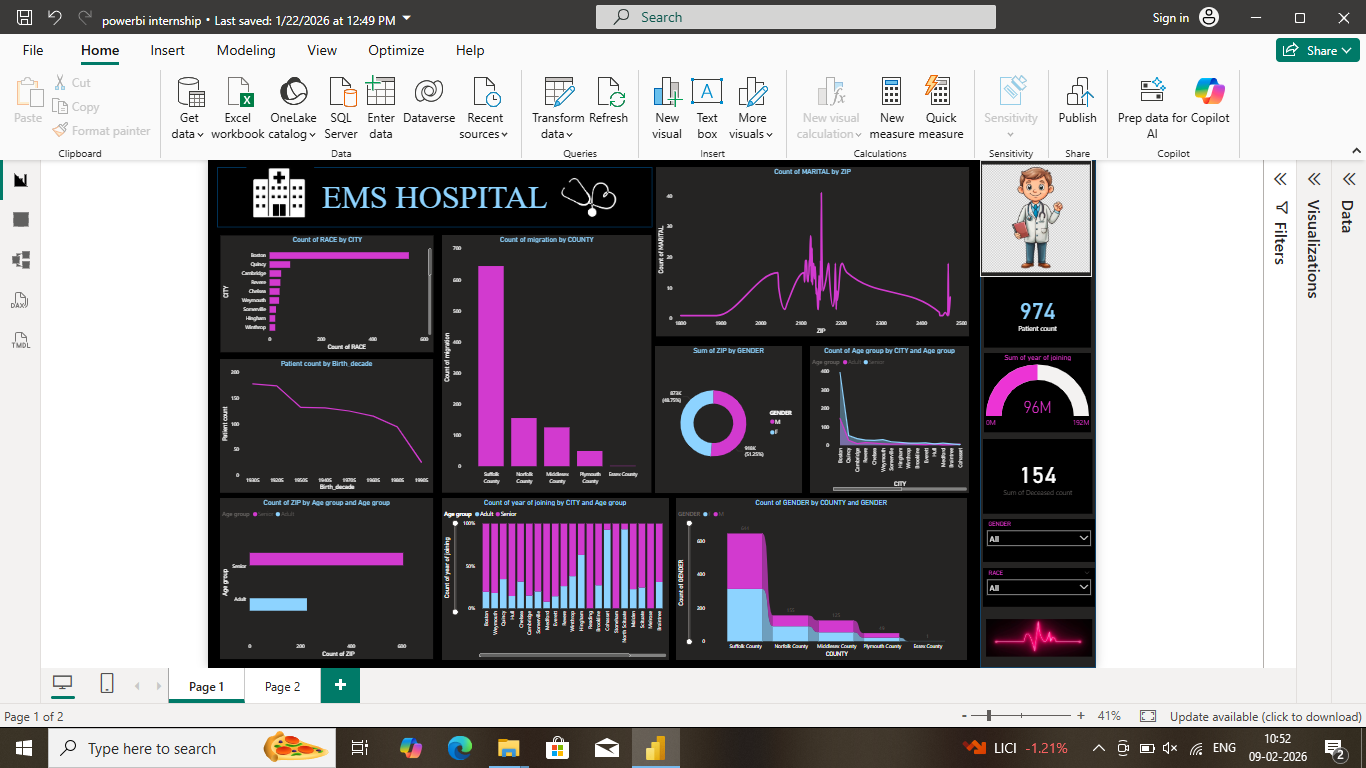

What the dashboard file says about the page in this screenshot:
{"tool":"powerbi","page":{"name":"Page 1","canvas":[2150,1230],"ordinal":0},"visuals":[{"type":"columnChart","fields":{"Category":["patients.COUNTY"],"Y":["patients.GENDER"],"Series":["patients.GENDER"]},"box":[1133.7,818.2,703.2,390.4],"z":0},{"type":"clusteredBarChart","fields":{"Y":["patients.ZIP"],"Category":["patients.Age group"],"Series":["patients.Age group"]},"box":[29.4,818.2,516.1,390.4],"z":1000},{"type":"lineChart","fields":{"Category":["patients.Birth_decade"],"Y":["patients.Patient count"]},"box":[30.2,481.4,515.9,323.8],"z":2000},{"type":"lineChart","fields":{"Category":["patients.ZIP"],"Y":["patients.MARITAL"]},"box":[1083.6,17.3,757.7,410.1],"z":4000},{"type":"clusteredBarChart","fields":{"Category":["patients.CITY"],"Y":["patients.RACE"]},"box":[28.1,181.3,518.1,284.9],"z":5000},{"type":"donutChart","fields":{"Category":["patients.GENDER"],"Y":["patients.ZIP"]},"box":[1082.9,449.2,355.6,355.6],"z":6000},{"type":"hundredPercentStackedColumnChart","fields":{"Category":["patients.CITY"],"Y":["procedures.year of joining"],"Series":["patients.Age group"]},"box":[566.9,818.2,548.2,390.4],"z":7000},{"type":"columnChart","fields":{"Category":["patients.COUNTY"],"Y":["patients.migration"]},"box":[567.7,181.3,507.3,623.8],"z":8000},{"type":"shape","box":[1870,0,280.6,1230],"z":9000},{"type":"areaChart","fields":{"Category":["patients.CITY"],"Y":["patients.Age group"],"Series":["patients.Age group"]},"box":[1457.3,449.2,385,355.6],"z":10000},{"type":"image","box":[1870,0,271,282.5],"z":11000},{"type":"card","fields":{"Values":["patients.Patient count"]},"box":[1879.6,282.5,259.5,171],"z":12000},{"type":"card","fields":{"Values":["patients.Deceased count"]},"box":[1877.7,674.6,265.2,180.7],"z":13000},{"type":"gauge","fields":{"Y":["procedures.year of joining"]},"box":[1879.6,467,259.5,192.2],"z":14000},{"type":"slicer","fields":{"Values":["patients.GENDER"]},"box":[1875.7,868.7,271,103.8],"z":15000},{"type":"slicer","fields":{"Values":["patients.RACE"]},"box":[1875.7,987.8,271,94.2],"z":16000},{"type":"shape","box":[22,18,1054,146],"z":17001},{"type":"image","box":[64,0,224,164],"z":17004},{"type":"image","box":[802,32,246,120],"z":17005},{"type":"image","box":[1879.6,1107,267.1,101.9],"z":17006}]}

Visuals, with their boxes on the page's 2150x1230 design canvas (x1, y1, x2, y2). These are canvas units, not pixel positions in the 1366x768 screenshot, which may show the page scaled, cropped or inside an application window:
columnChart - patients.COUNTY x patients.GENDER: bbox=(1134, 818, 1837, 1209)
clusteredBarChart - patients.ZIP x patients.Age group: bbox=(29, 818, 546, 1209)
lineChart - patients.Birth_decade x patients.Patient count: bbox=(30, 481, 546, 805)
lineChart - patients.ZIP x patients.MARITAL: bbox=(1084, 17, 1841, 427)
clusteredBarChart - patients.CITY x patients.RACE: bbox=(28, 181, 546, 466)
donutChart - patients.GENDER x patients.ZIP: bbox=(1083, 449, 1438, 805)
hundredPercentStackedColumnChart - patients.CITY x procedures.year of joining: bbox=(567, 818, 1115, 1209)
columnChart - patients.COUNTY x patients.migration: bbox=(568, 181, 1075, 805)
shape: bbox=(1870, 0, 2151, 1230)
areaChart - patients.CITY x patients.Age group: bbox=(1457, 449, 1842, 805)
image: bbox=(1870, 0, 2141, 282)
card - patients.Patient count: bbox=(1880, 282, 2139, 454)
card - patients.Deceased count: bbox=(1878, 675, 2143, 855)
gauge - procedures.year of joining: bbox=(1880, 467, 2139, 659)
slicer - patients.GENDER: bbox=(1876, 869, 2147, 972)
slicer - patients.RACE: bbox=(1876, 988, 2147, 1082)
shape: bbox=(22, 18, 1076, 164)
image: bbox=(64, 0, 288, 164)
image: bbox=(802, 32, 1048, 152)
image: bbox=(1880, 1107, 2147, 1209)
